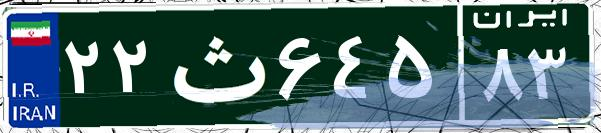2: (57, 26, 110, 107), (110, 28, 158, 105)
3: (525, 38, 570, 115)
4: (330, 28, 385, 110)
5: (385, 28, 445, 110)
6: (273, 28, 330, 110)
8: (475, 38, 525, 113)
ث: (158, 15, 273, 115)
